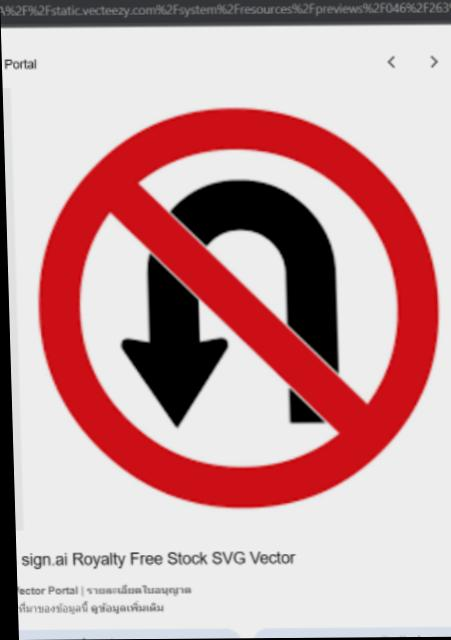not_u_turn_left: (25, 94, 451, 523)
